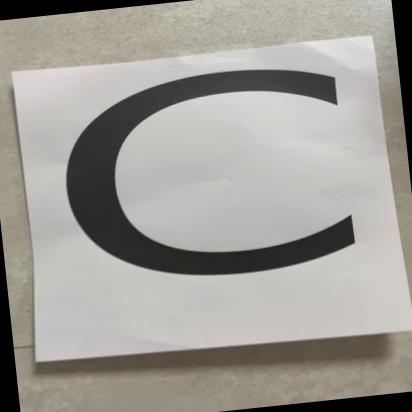seat: (45, 34, 412, 342)
